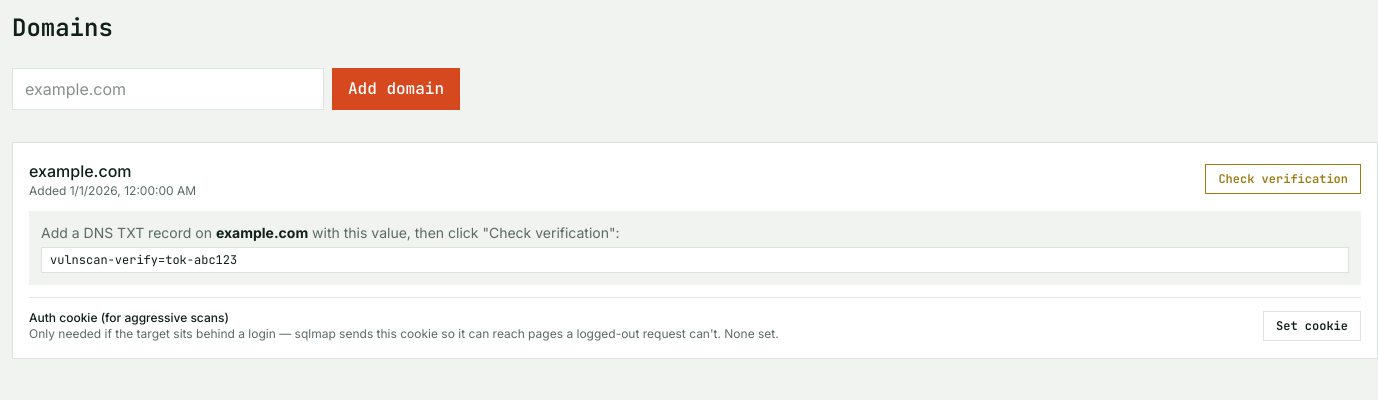
Scenario: Domains › shows an error under the domain when verification fails
Click the button "Check verification". click: (1283, 179)
box: [1205,164,1361,194]
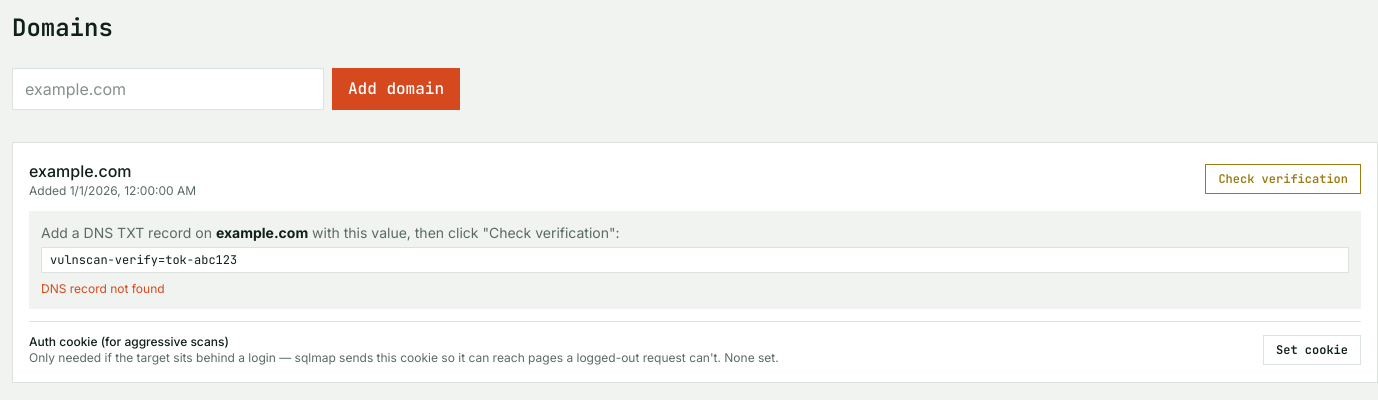
Check: the text "DNS record not found" is shown, box [41,281,165,296]
